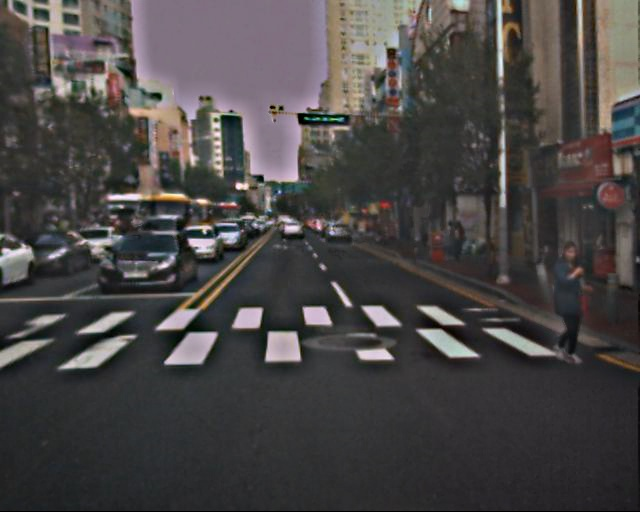person: (539, 240, 592, 369), (450, 221, 467, 262), (442, 223, 456, 256)
